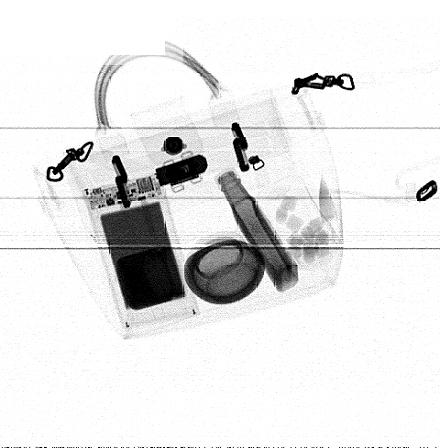Powerbank: (81, 171, 199, 331)
